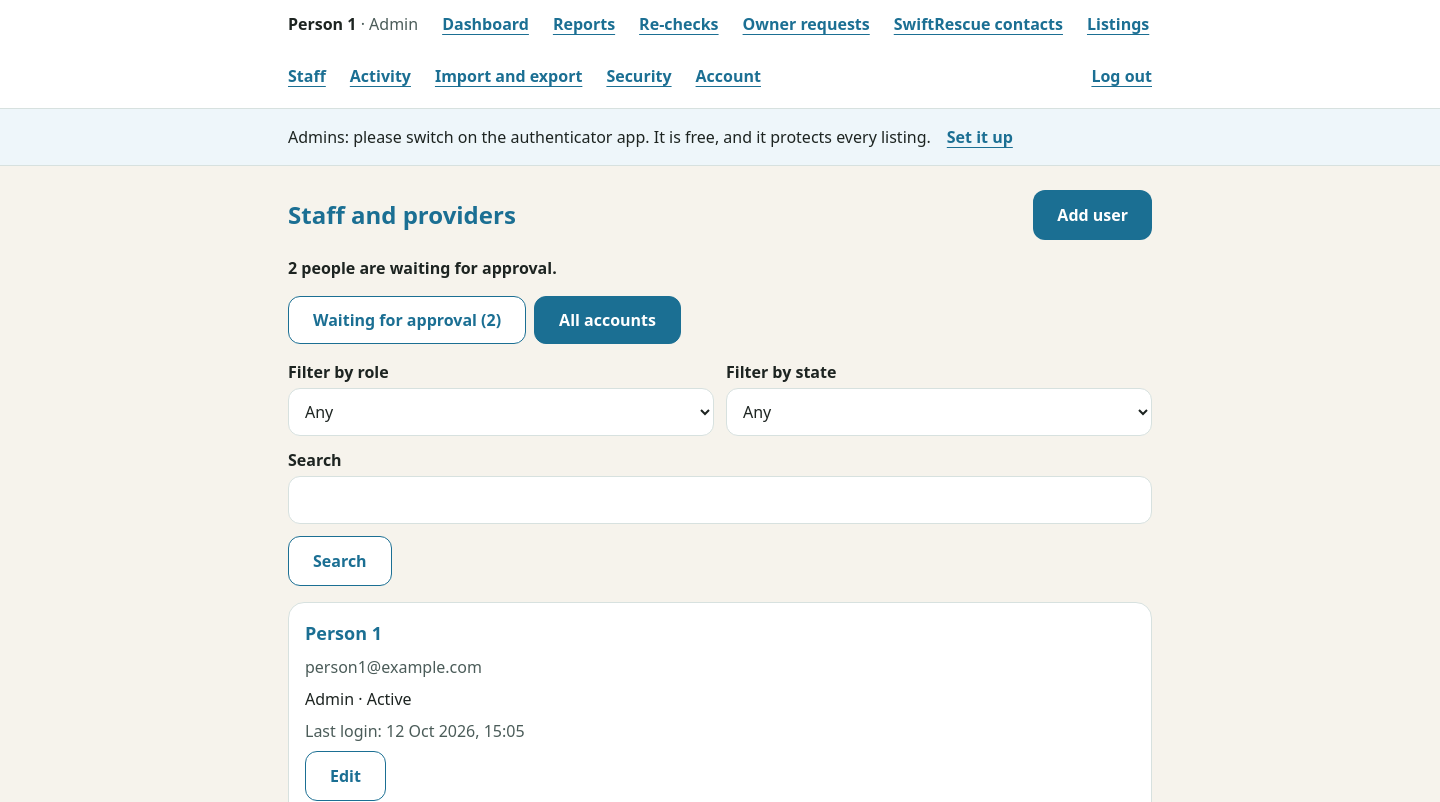
it: Waiting for approval › approves with the chosen role, takes the card out of the list and says what happened
Click the tab "Waiting for approval (2)" at coordinates (407, 320), box [288,296,526,344]
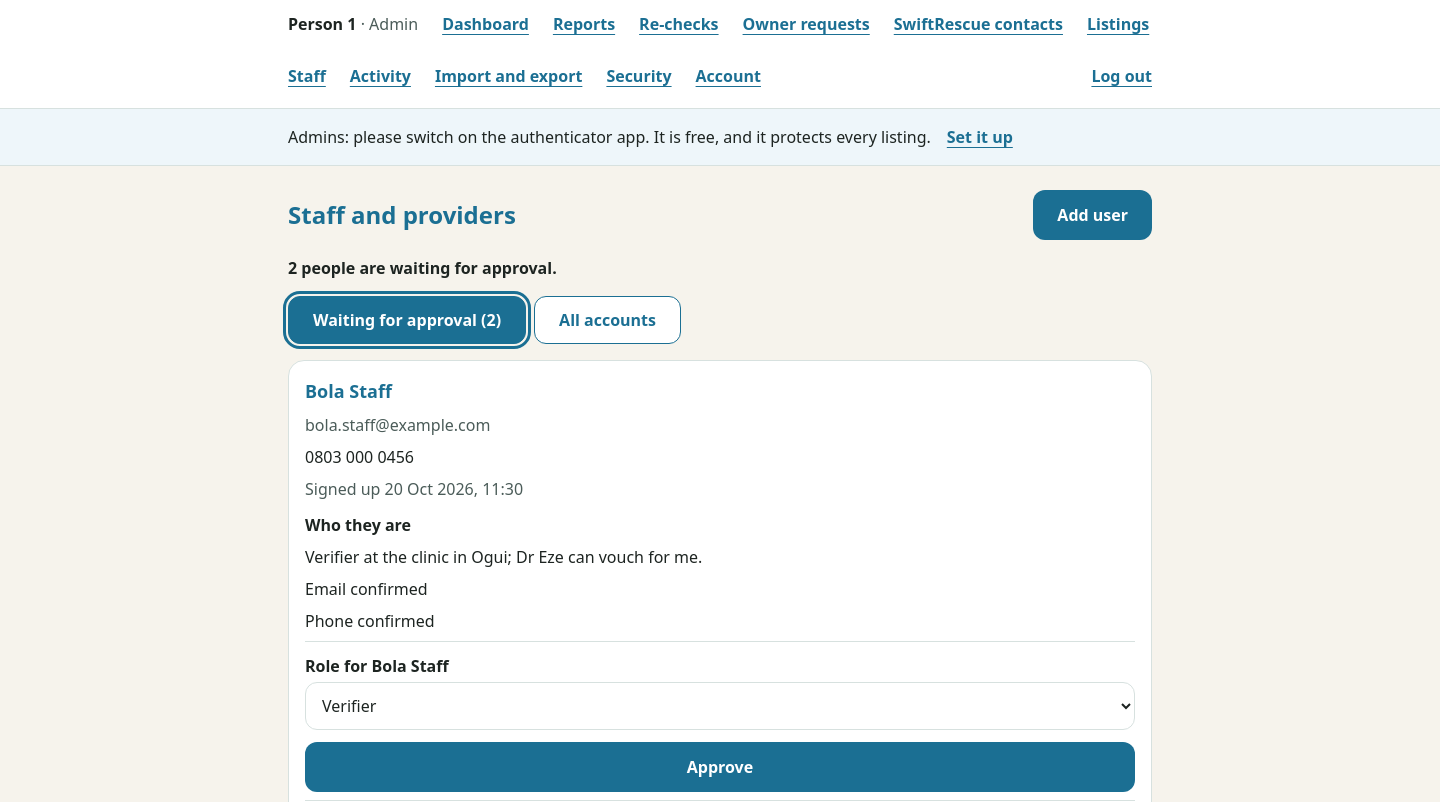
Expected: the text "Bola Staff" is shown, [305,379,392,403]
Select "Editor" in the dropdown labelled "Role for Bola Staff" at coordinates (720, 706), box [305,682,1135,730]
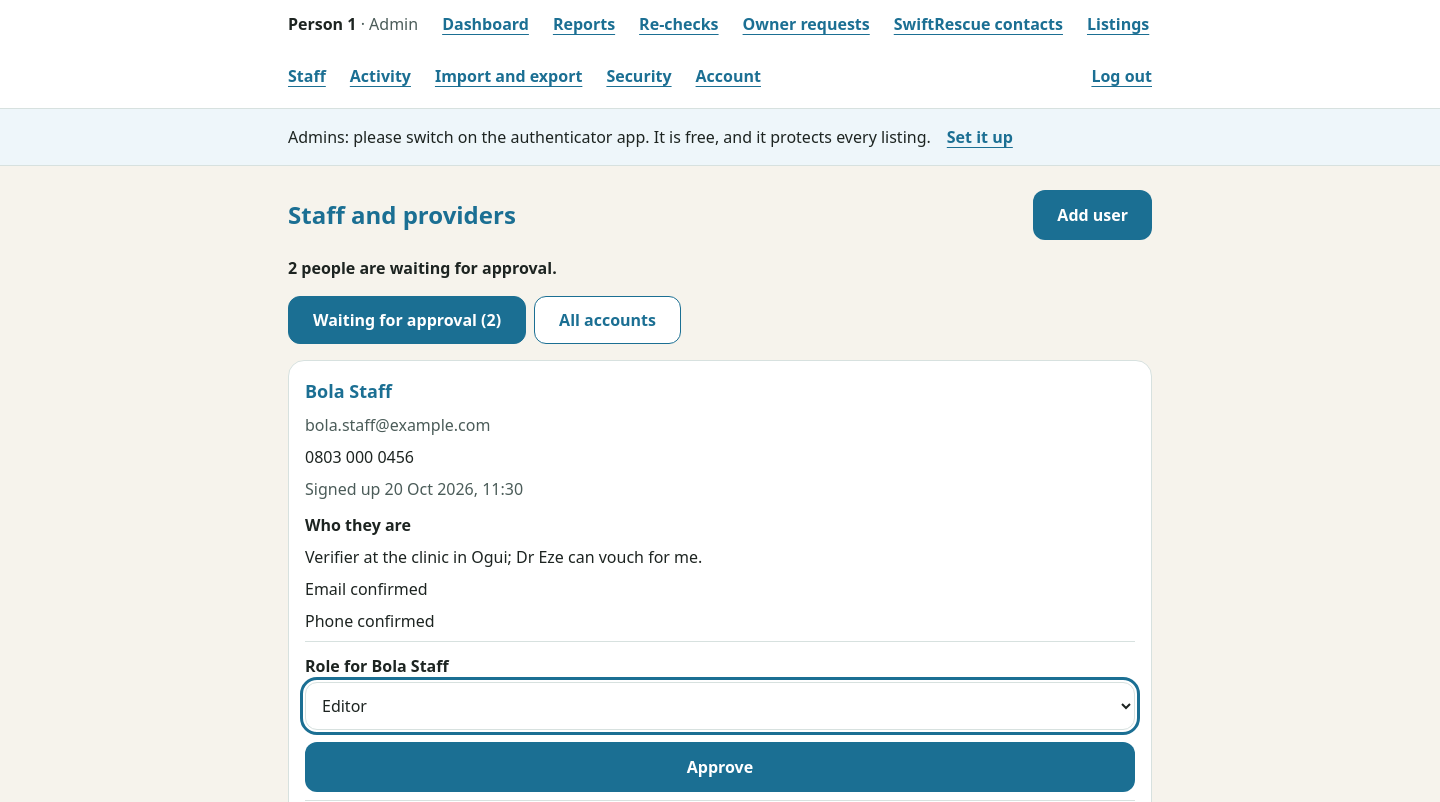
Click the button with aria-label "Approve Bola Staff" at coordinates (720, 767), box [305,742,1135,792]
(page scrolled)
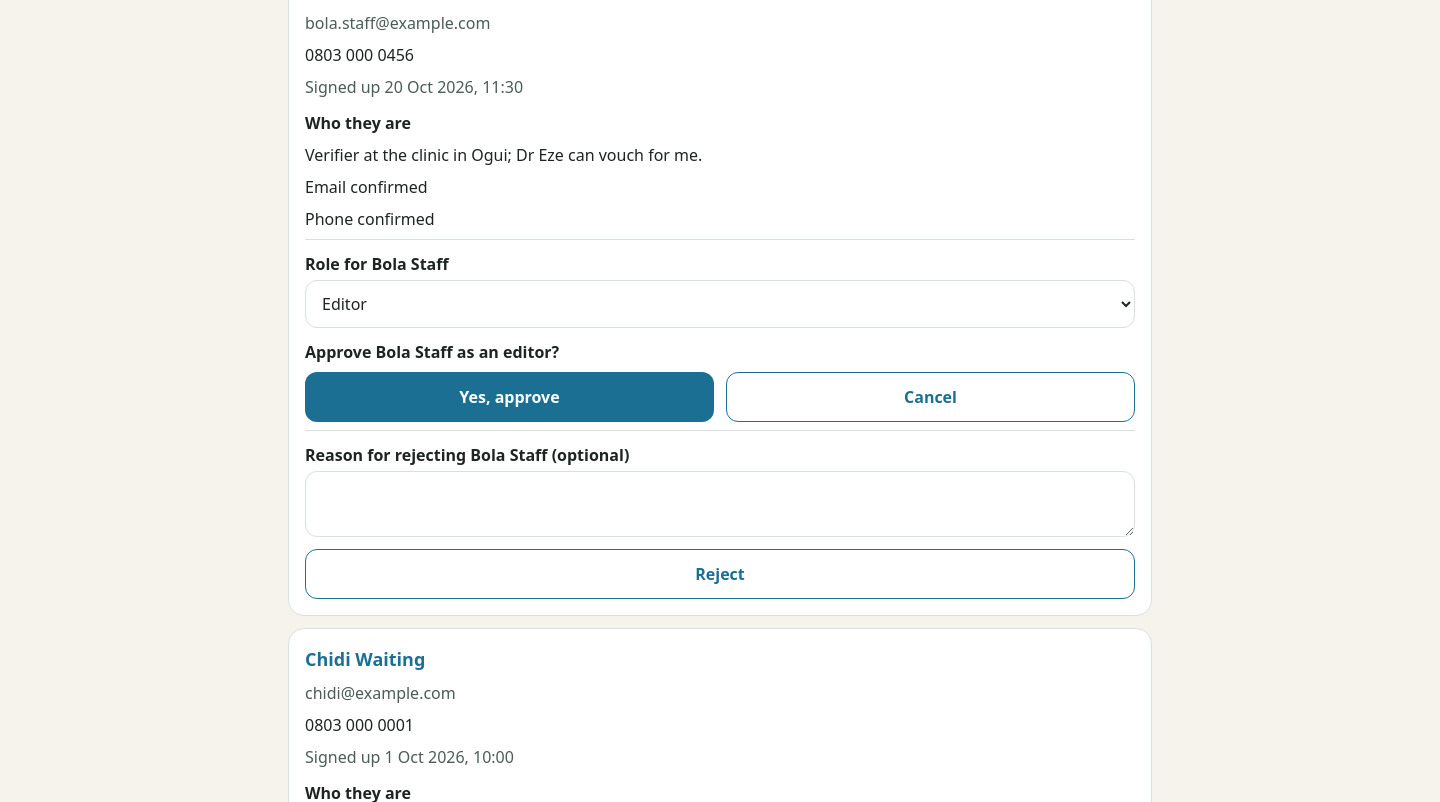
Click the button "Yes, approve" at coordinates (510, 397), box [305,372,714,422]
(page scrolled)
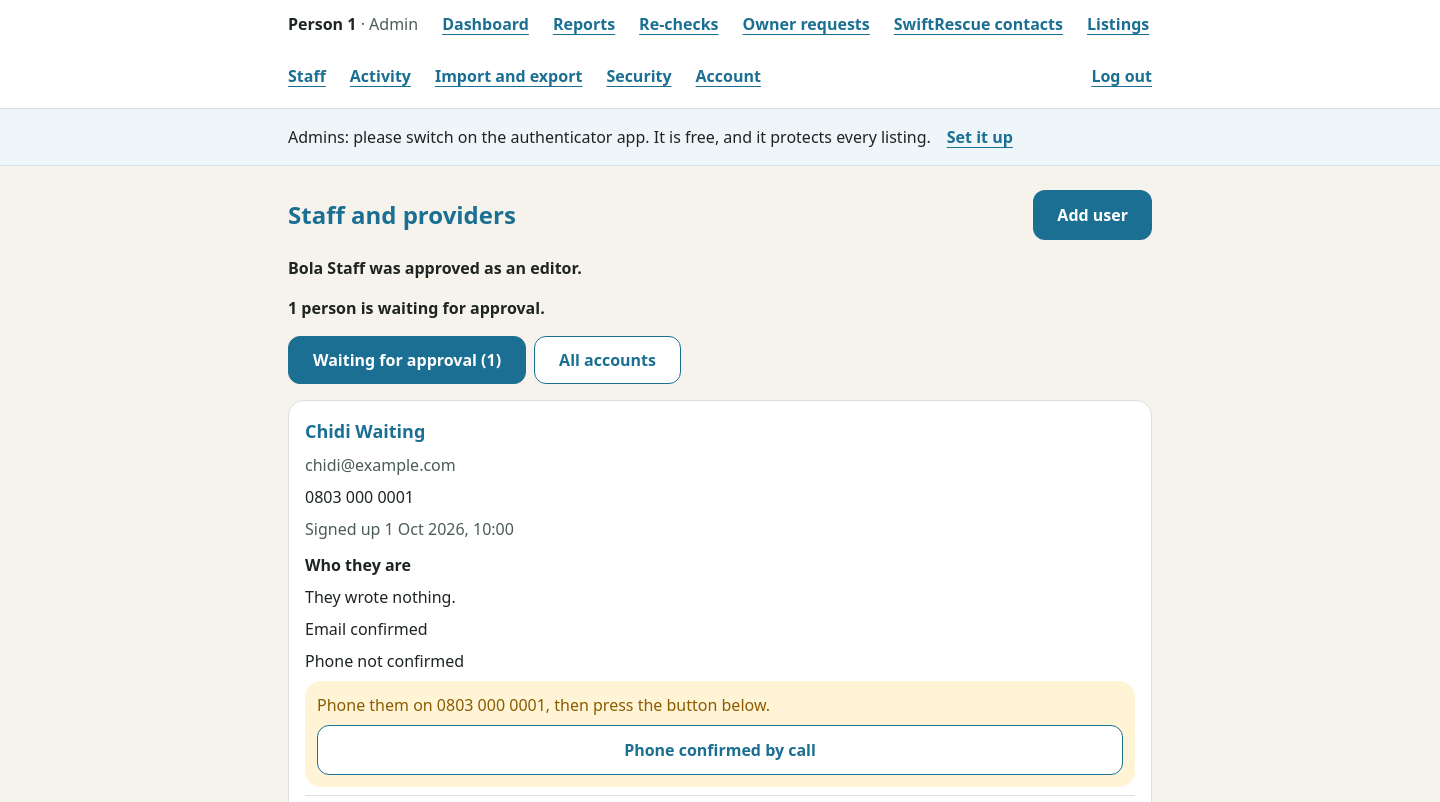
Now the text "Bola Staff was approved as an editor." is shown, box [288,257,582,279]
Now the text "Approve Bola Staff" is gone
Now the tab "Waiting for approval (1)" is shown, box [288,336,526,384]
